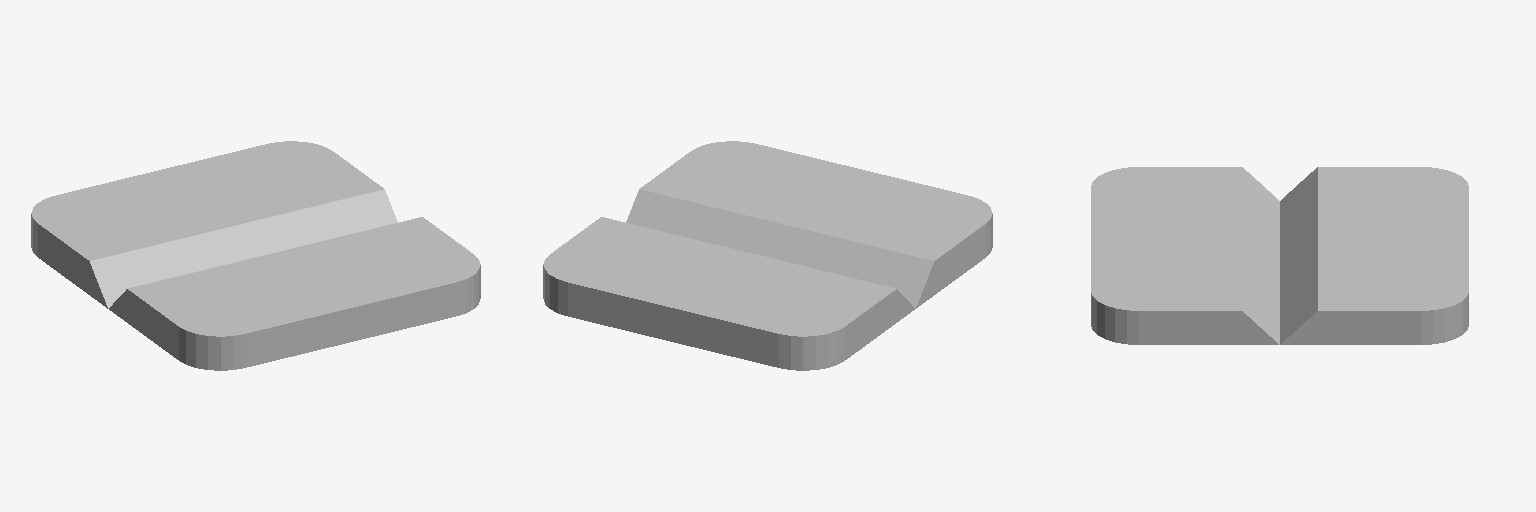
Rendered from original-40.obj.
3 views of the same model, side by side, from view 1: azimuth 30°, elevation 25°; view 2: azimuth 150°, elevation 25°; view 3: azimuth 270°, elevation 25° (orthographic).
Parts seen in each view (by area): view 1: mesh39/mesh39-geometry#mesh39-geometry; view 2: mesh39/mesh39-geometry#mesh39-geometry; view 3: mesh39/mesh39-geometry#mesh39-geometry.
Boxes of the visible parts, x1,y1,x2,y2 form: mesh39/mesh39-geometry#mesh39-geometry: [31, 141, 480, 370]; mesh39/mesh39-geometry#mesh39-geometry: [543, 141, 992, 370]; mesh39/mesh39-geometry#mesh39-geometry: [1091, 167, 1468, 344].
Size of the model in its own units: 0.0581 by 0.0064 by 0.0644.